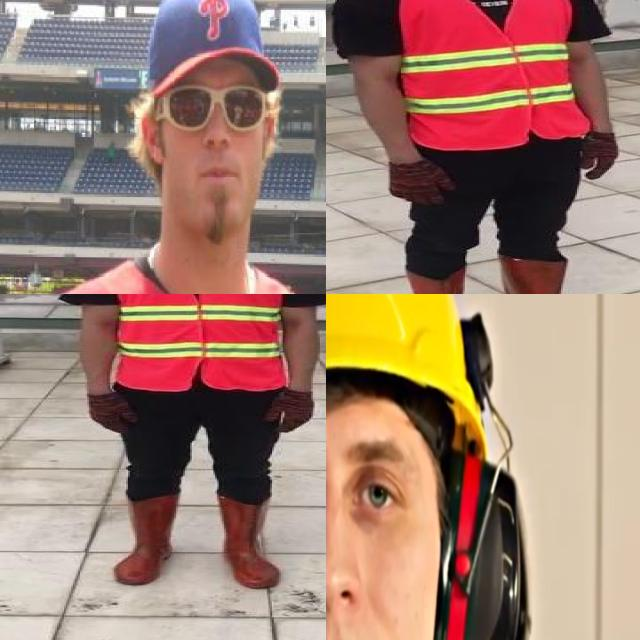Ear-protection: (326, 294, 529, 640)
boots: (213, 495, 283, 588), (117, 493, 183, 585), (499, 253, 611, 294), (401, 268, 488, 294)
face_nomask: (165, 79, 262, 196)
glasses: (168, 74, 278, 129)
hand_glove: (389, 160, 456, 207), (87, 393, 141, 435), (268, 390, 316, 433), (582, 129, 618, 181)
head_nohelmet: (141, 0, 281, 93)
person: (0, 0, 326, 294), (326, 0, 632, 294), (59, 294, 326, 592)
vest: (401, 0, 587, 150), (110, 294, 284, 392)
